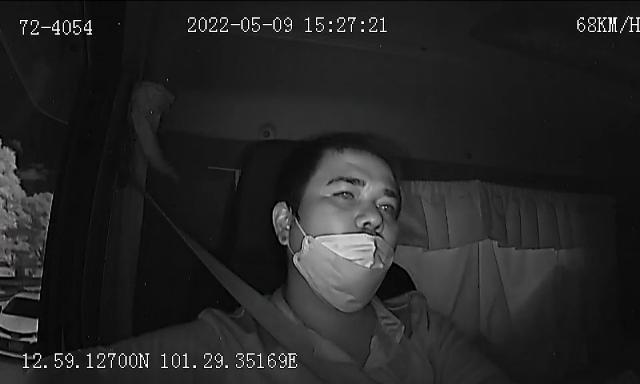SafeDriving: (324, 181, 362, 205), (372, 192, 400, 216)
Seatbelt: (171, 224, 373, 384)
